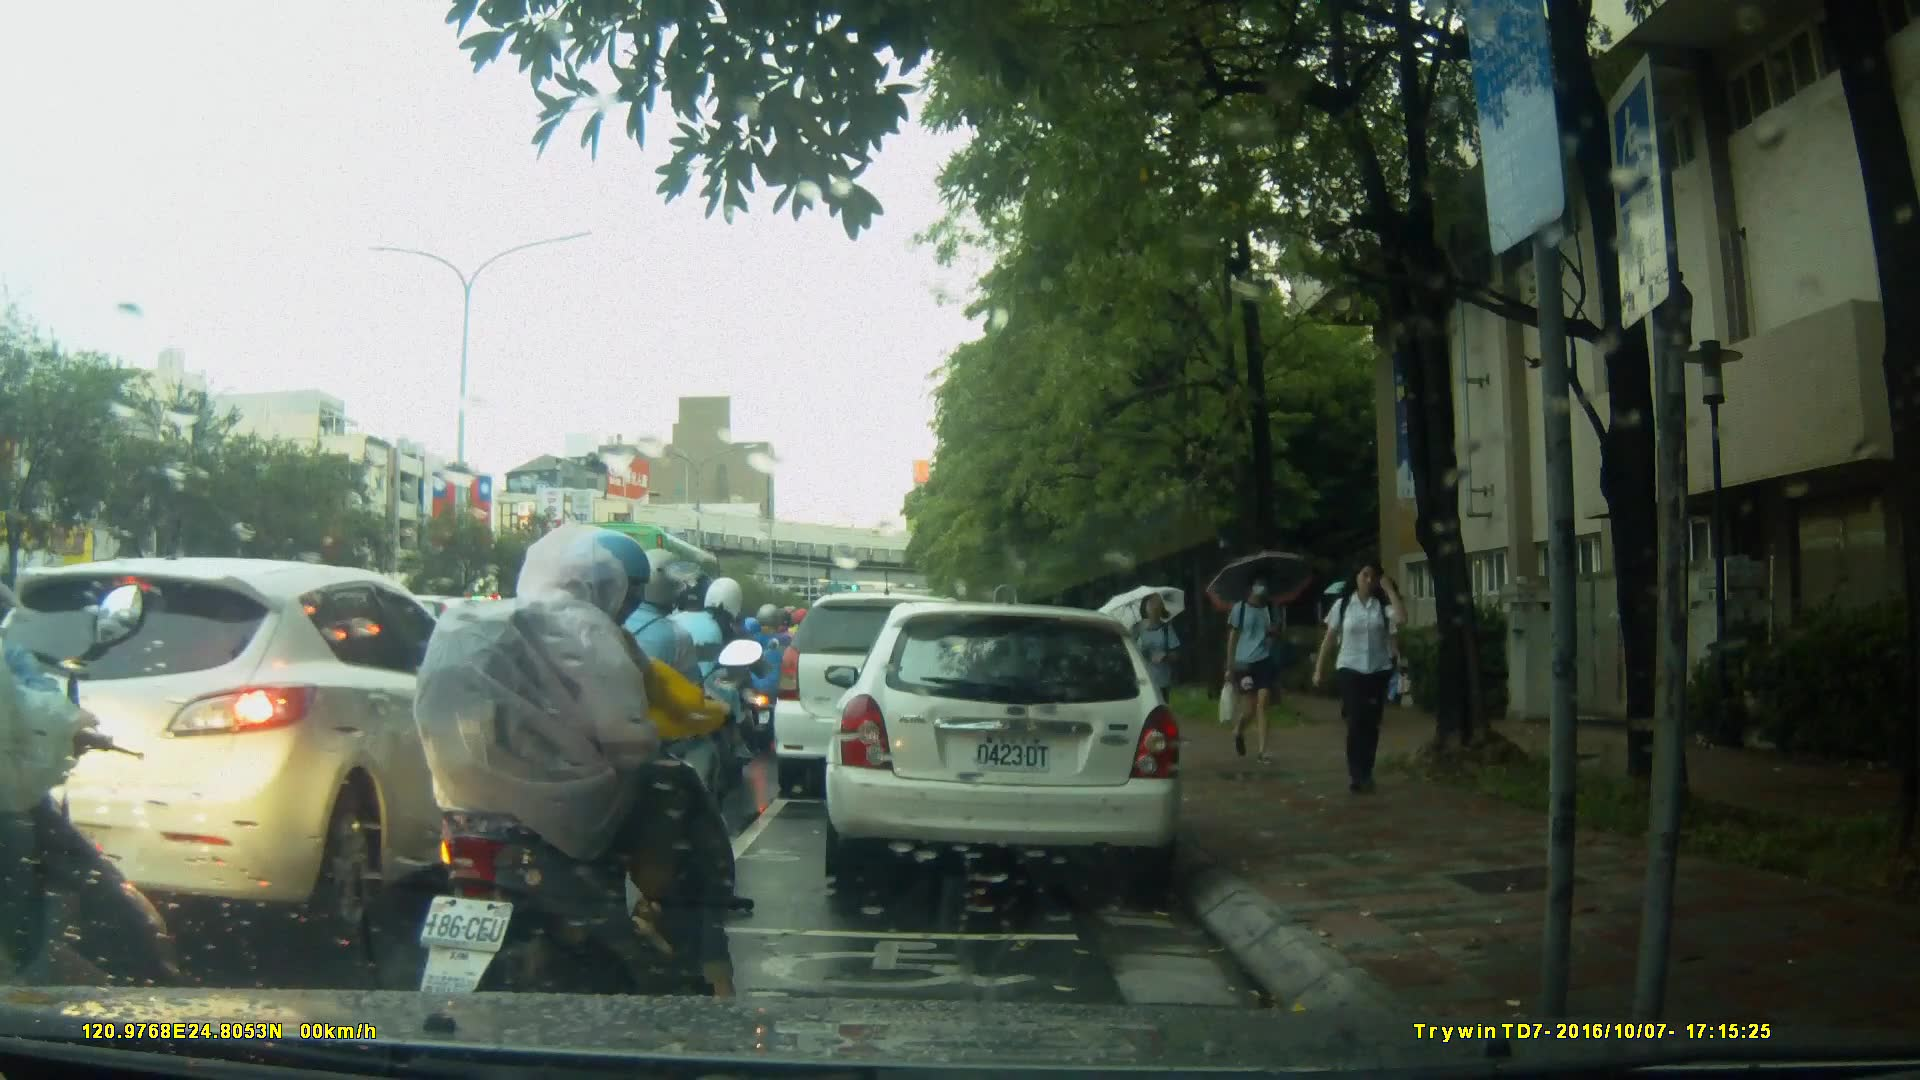pedestrian: (1314, 553, 1407, 803), (1209, 566, 1288, 774), (1122, 596, 1182, 734), (1136, 607, 1175, 735)
rider: (419, 528, 764, 1019), (1, 580, 187, 1072), (583, 552, 731, 877), (635, 575, 757, 851), (735, 603, 801, 747), (758, 610, 809, 757)
vehicle: (1, 556, 554, 946), (822, 604, 1186, 882), (774, 595, 995, 802), (554, 519, 739, 666)
